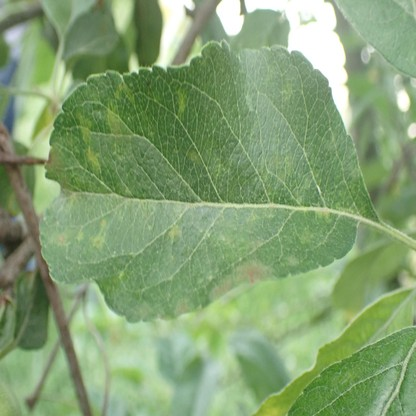scab: (50, 45, 360, 319)
